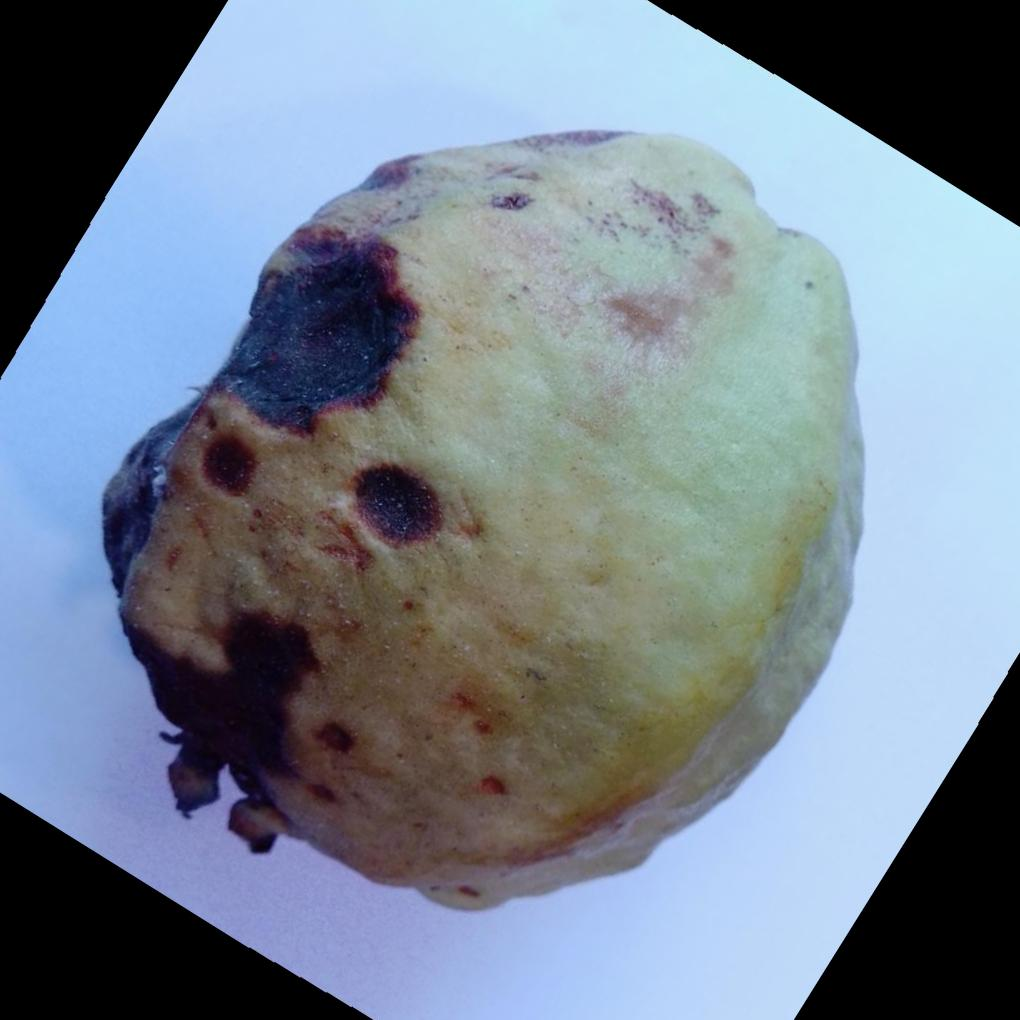FreshOrange: (97, 128, 862, 916)
